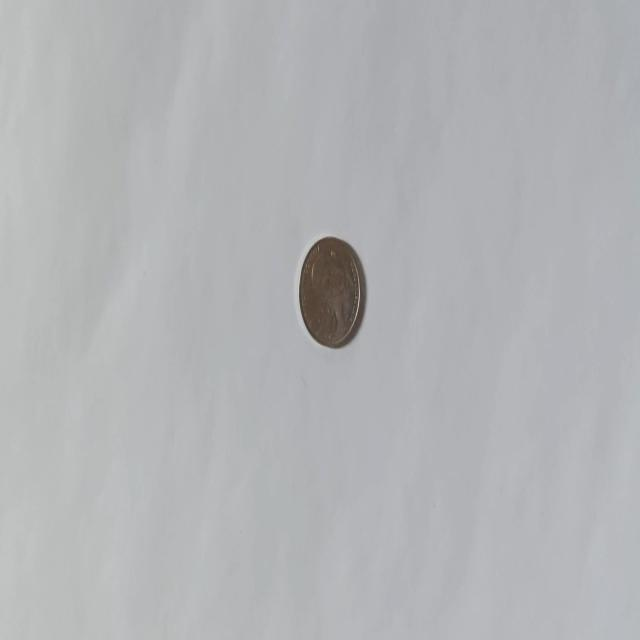seribu rupiah koin: (296, 234, 362, 348)
